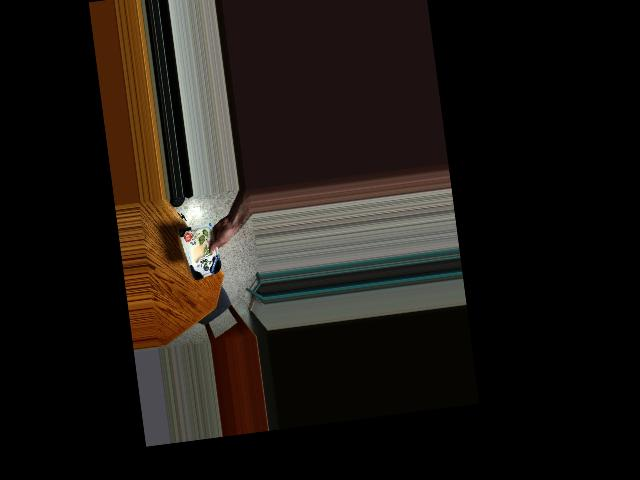cheese: (174, 218, 232, 281)
